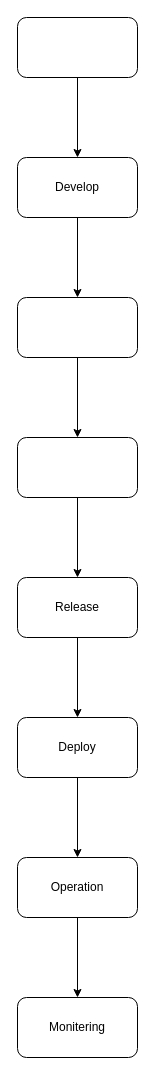
This 155x1075 diagram has some shape labels left out. The shapes that lost their labels are listed below. From the top down, each one's centre as x and y in pixels, then its label:
the point at 77,47: Plan
the point at 77,327: Build
the point at 77,467: test
